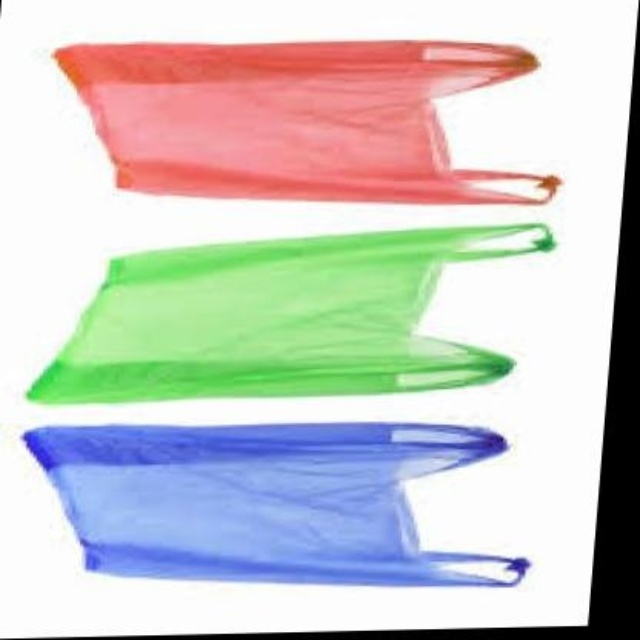trash: (28, 223, 554, 402), (55, 40, 558, 203), (25, 423, 528, 585)
